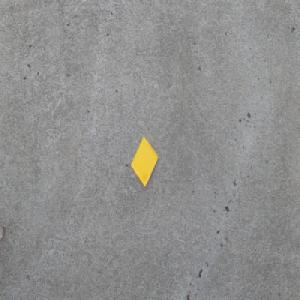PlasticPart: (130, 135, 158, 187)
